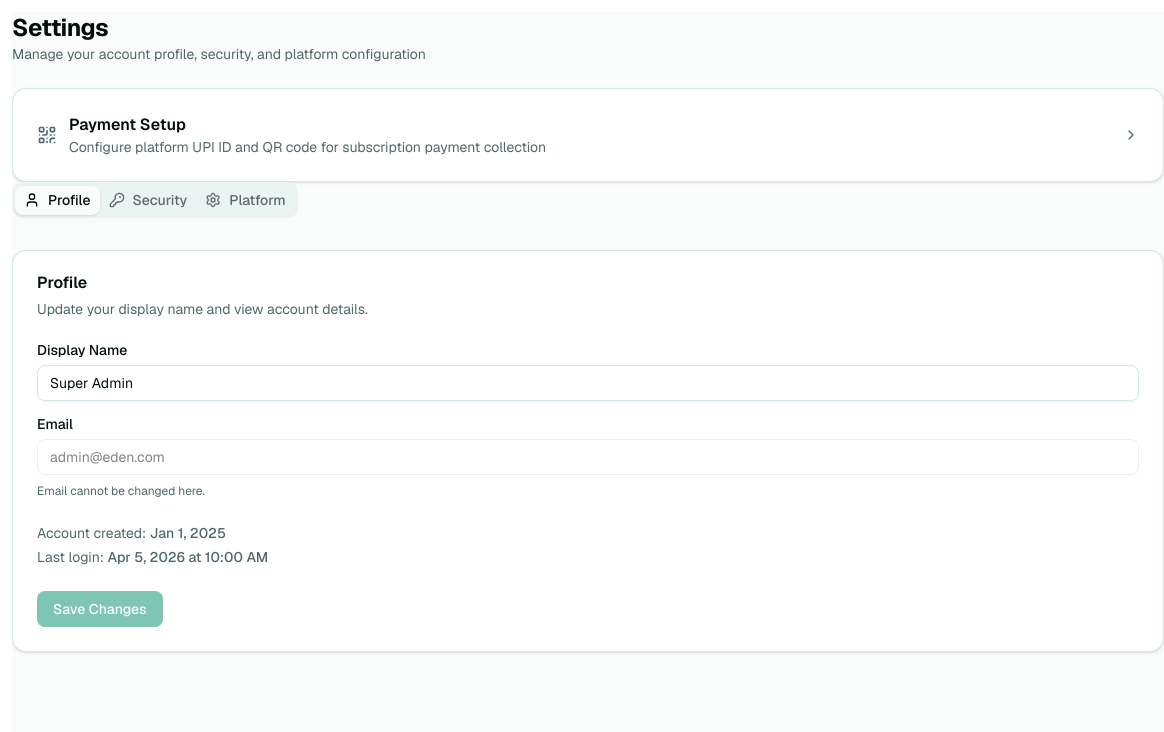
Scenario: SecurityTab › shows validation errors when submitting empty password form
The width and height of the screenshot is (1164, 732).
Click the tab "Security".
click(148, 200)  # box [100,186,196,214]
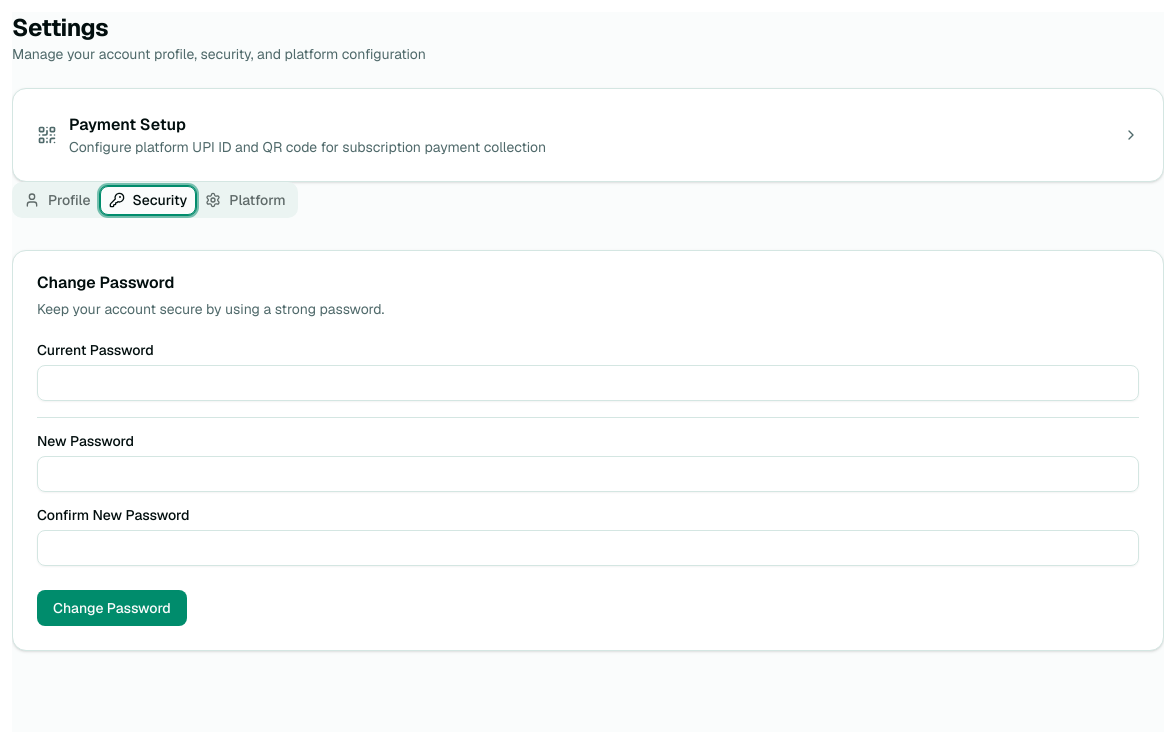
Click the button "Change Password".
click(112, 608)  # box [37,590,187,626]
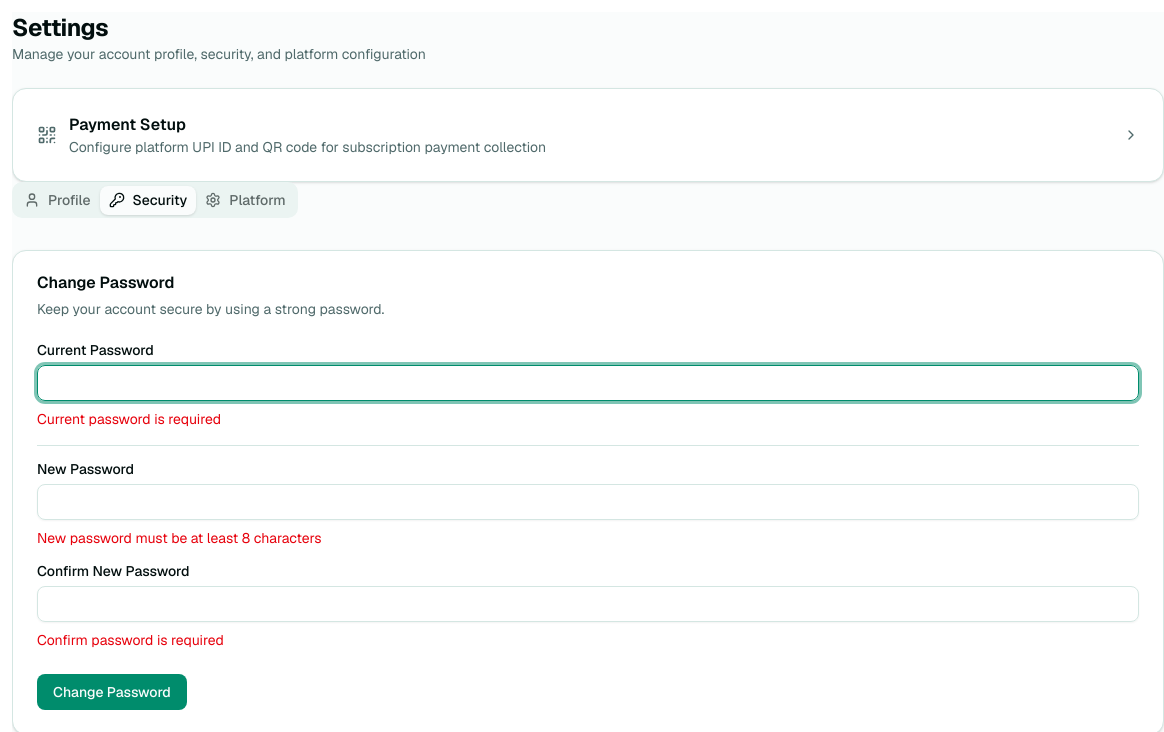
Check: the text "Current password is required" is shown, box [37,410,221,428]
